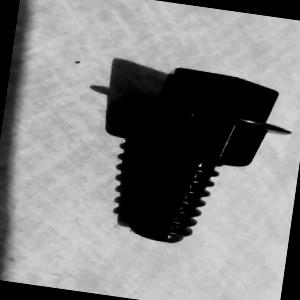parafuso: (102, 57, 296, 257)
